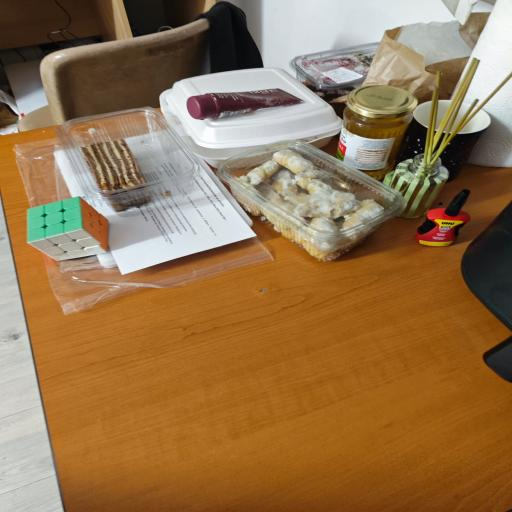Crema Maini: (186, 89, 307, 121)
Rubiks Cube: (22, 196, 114, 264)
Super Glue: (418, 184, 474, 255)
